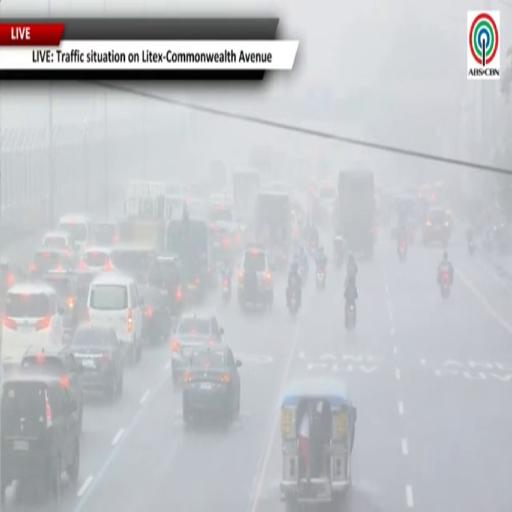car: (0, 375, 79, 501), (20, 347, 83, 433), (2, 283, 63, 370), (87, 272, 143, 364), (183, 344, 241, 425), (69, 324, 124, 401), (171, 315, 224, 386), (42, 270, 83, 339), (238, 245, 273, 308), (149, 255, 185, 316), (138, 285, 172, 344), (78, 246, 113, 293), (111, 246, 155, 283), (29, 248, 76, 277), (59, 214, 92, 251), (423, 207, 451, 246), (80, 246, 113, 274), (93, 220, 121, 246), (0, 261, 19, 297), (42, 231, 75, 251)
jeepney: (280, 376, 356, 511)
motorcycle: (439, 271, 451, 300), (334, 236, 344, 269), (345, 302, 356, 330), (288, 288, 299, 315), (222, 276, 232, 303), (316, 266, 325, 290), (334, 249, 344, 270), (398, 240, 407, 262), (300, 261, 308, 285), (467, 237, 476, 256)
truck: (334, 170, 374, 259), (120, 181, 172, 249), (255, 191, 291, 269), (232, 171, 260, 225)
